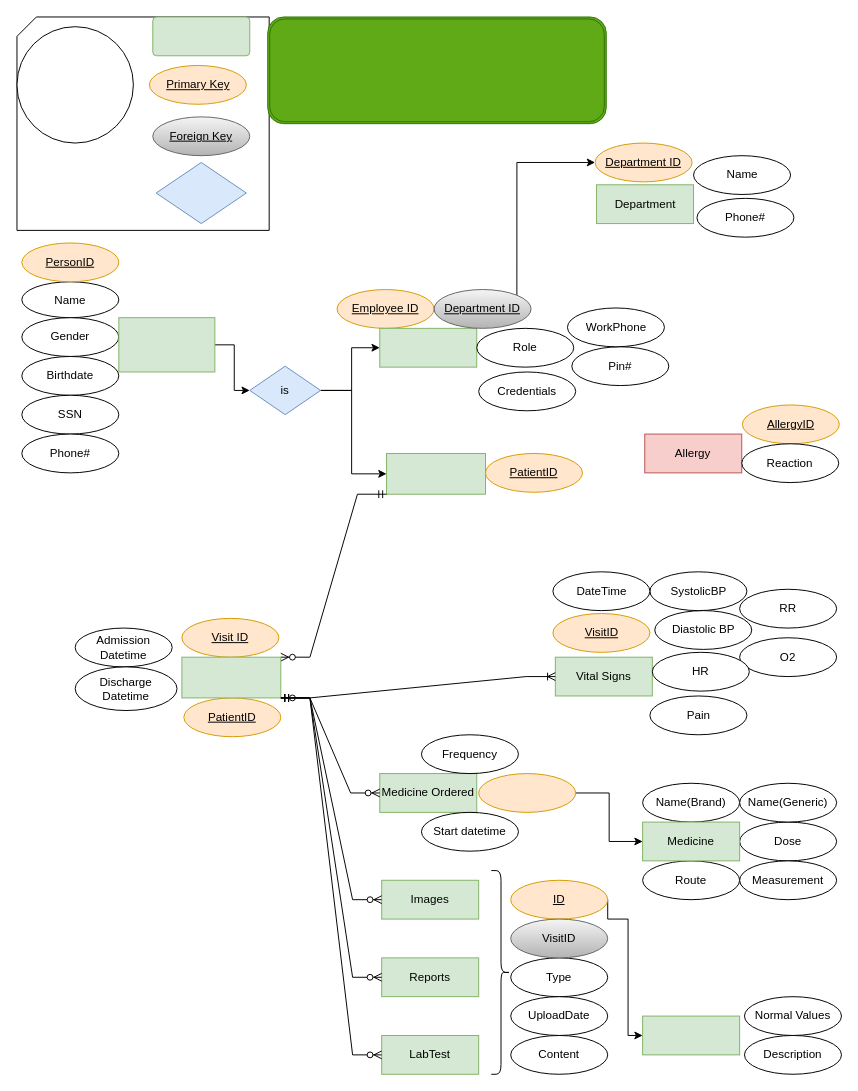
Some shapes in this 858 by 1091 pixel diagram are drawn without their labels. Here are the shapes that lost their labels. From the top down, the box of each, then its label:
(152, 16, 250, 56): Entity
(16, 26, 133, 143): Legend
(267, 16, 606, 124): Hospital Database
(155, 162, 246, 224): Relationship
(118, 317, 215, 372): Person
(379, 327, 477, 367): Employee
(386, 453, 485, 494): Patient
(181, 656, 281, 698): Visit
(478, 773, 576, 812): Medication ID
(642, 1015, 740, 1055): Test
